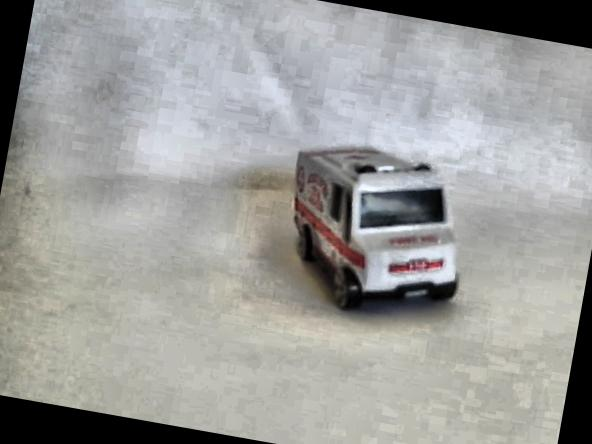ambulance: (272, 134, 478, 328)
